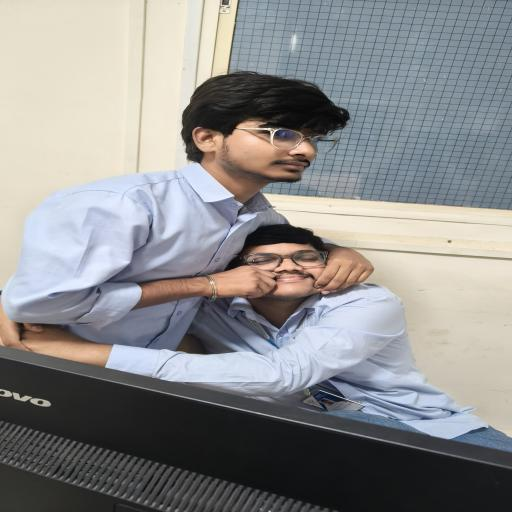survivor: (0, 224, 512, 452), (0, 70, 375, 352)
